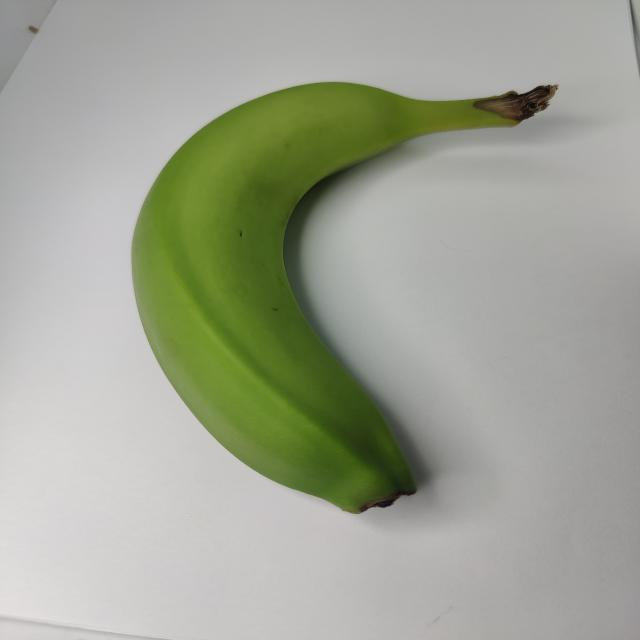raw: (124, 64, 588, 516)
